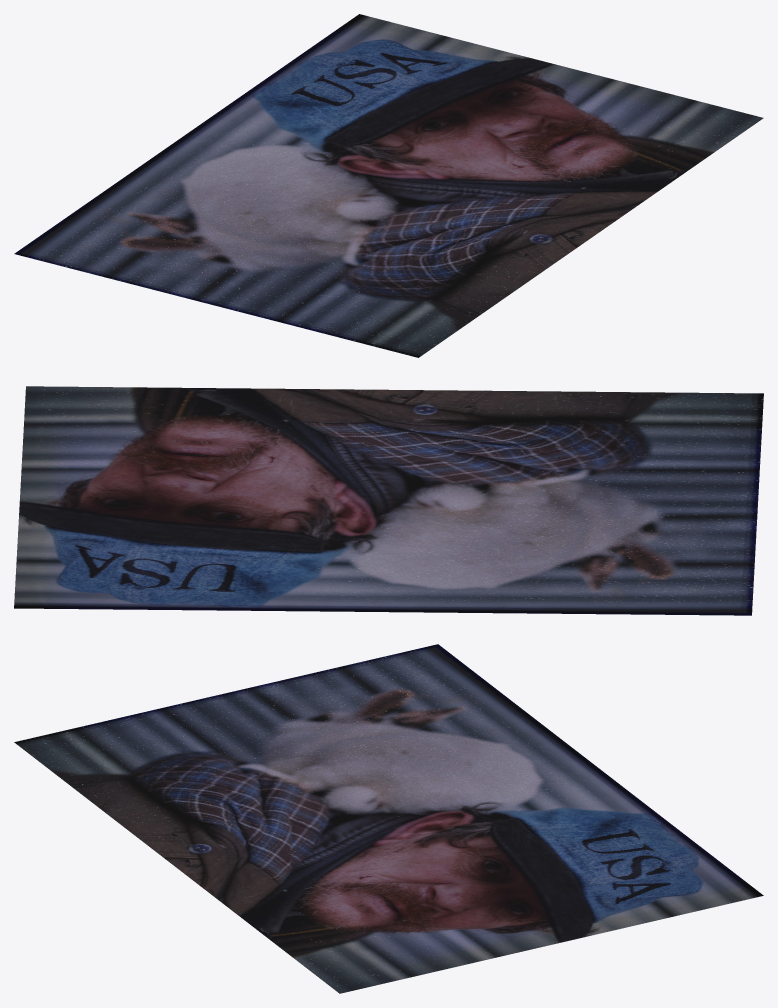
File: lapin_blanc.glb
3 views of the same model, one above another, from view 1: azimuth 30°, elevation 25°; view 2: azimuth 150°, elevation 25°; view 3: azimuth 270°, elevation 25° (orthographic). The views are drawn at different scales.
Parts seen in each view (by area): view 1: lapin_blanc; view 2: lapin_blanc; view 3: lapin_blanc.
Boxes of the visible parts, bbox=[...] form: lapin_blanc: bbox=[14, 14, 763, 357]; lapin_blanc: bbox=[14, 386, 763, 615]; lapin_blanc: bbox=[14, 644, 763, 993].
Size of the model in its own units: 6.15 by 8.33e-16 by 5.57.
1 material, 1 textured.
